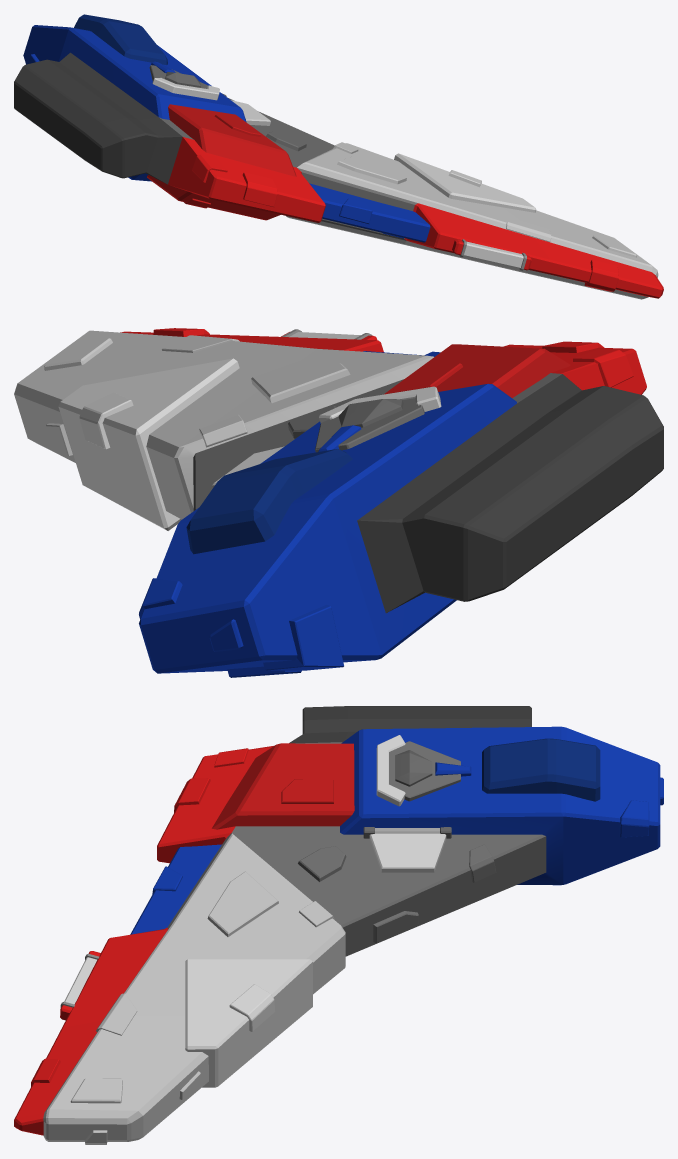
Rendered from Wing05.fbx.
3 renders of one model, top to bottom at view 1: azimuth 30°, elevation 25°; view 2: azimuth 150°, elevation 25°; view 3: azimuth 270°, elevation 25°, orthographic. The views are drawn at different scales.
Parts seen in each view (by area): view 1: Wing05; view 2: Wing05; view 3: Wing05.
Part boxes in pixels (x1,y1,x2,y2): Wing05: (14, 14, 663, 299); Wing05: (14, 328, 663, 677); Wing05: (14, 706, 663, 1144).
Size of the model in its own units: 540 by 604 by 233.
